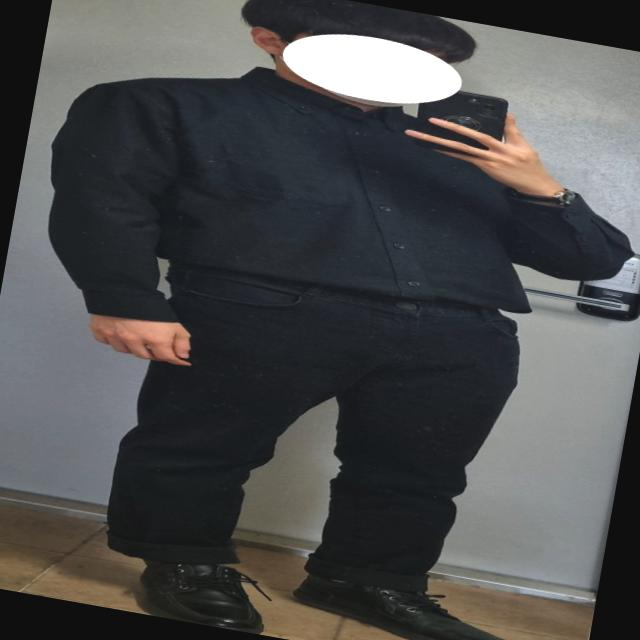denimpants: (98, 249, 526, 614)
shirt: (23, 26, 640, 406)
